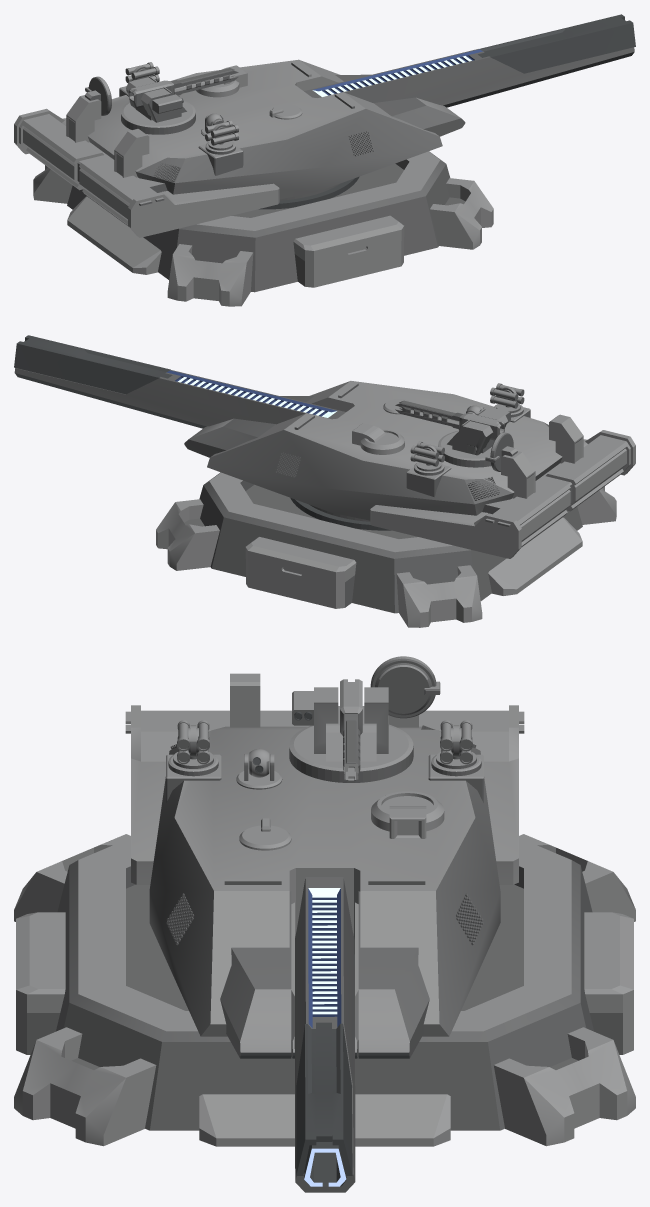
Rendered from Railgun300.fbx.
3 renders of one model, top to bottom at view 1: azimuth 30°, elevation 25°; view 2: azimuth 150°, elevation 25°; view 3: azimuth 270°, elevation 25°, orthographic. The views are drawn at different scales.
Parts seen in each view (by area): view 1: 底, Slice.011, 立方体.004, 立方体.001, 炮管-外部, 立方体.026, Slice.004, 相控雷达, Slice.002, 立方体.003, 可扩展模块-后部, 立方体.009 (+10 smaller); view 2: 底, Slice.011, 立方体.004, 立方体.001, 炮管-外部, 立方体.026, Slice.004, 相控雷达, Slice.002, 立方体.003, 可扩展模块-后部, 立方体.009 (+11 smaller); view 3: 底, Slice.011, 立方体.001, 立方体.009, 立方体.004, 立方体.026, 炮管-外部, 相控雷达, Slice.002, Slice.004, 柱体.041, 柱体.007 (+12 smaller).
Boxes of the visible parts, bbox=[...] form: 底: bbox=[87, 59, 442, 199]; Slice.011: bbox=[159, 151, 450, 255]; 立方体.004: bbox=[14, 108, 279, 237]; 立方体.001: bbox=[33, 165, 493, 306]; 炮管-外部: bbox=[304, 47, 634, 107]; 立方体.026: bbox=[67, 185, 449, 292]; Slice.004: bbox=[479, 14, 635, 73]; 相控雷达: bbox=[67, 196, 161, 274]; Slice.002: bbox=[293, 215, 404, 262]; 立方体.003: bbox=[294, 238, 403, 287]; 可扩展模块-后部: bbox=[66, 95, 149, 177]; 立方体.009: bbox=[335, 74, 465, 136]; 底: bbox=[207, 381, 562, 520]; Slice.011: bbox=[199, 472, 490, 577]; 立方体.004: bbox=[370, 430, 635, 558]; 立方体.001: bbox=[156, 486, 616, 627]; 炮管-外部: bbox=[14, 368, 345, 428]; 立方体.026: bbox=[200, 507, 582, 613]; Slice.004: bbox=[14, 335, 170, 394]; 相控雷达: bbox=[488, 517, 582, 595]; Slice.002: bbox=[245, 537, 356, 583]; 立方体.003: bbox=[246, 559, 354, 608]; 可扩展模块-后部: bbox=[501, 414, 583, 498]; 立方体.009: bbox=[184, 396, 314, 457]; 底: bbox=[149, 726, 500, 1036]; Slice.011: bbox=[63, 838, 586, 1071]; 立方体.001: bbox=[14, 834, 635, 1146]; 立方体.009: bbox=[220, 891, 429, 1058]; 立方体.004: bbox=[131, 705, 518, 884]; 立方体.026: bbox=[56, 891, 593, 1130]; 炮管-外部: bbox=[294, 877, 355, 1192]; 相控雷达: bbox=[199, 1094, 450, 1146]; Slice.002: bbox=[16, 912, 633, 1012]; Slice.004: bbox=[296, 1023, 352, 1175]; 柱体.041: bbox=[289, 724, 413, 782]; 柱体.007: bbox=[370, 656, 436, 718].
Size of the model in its own units: 1.7 by 0.4331 by 0.9948.
